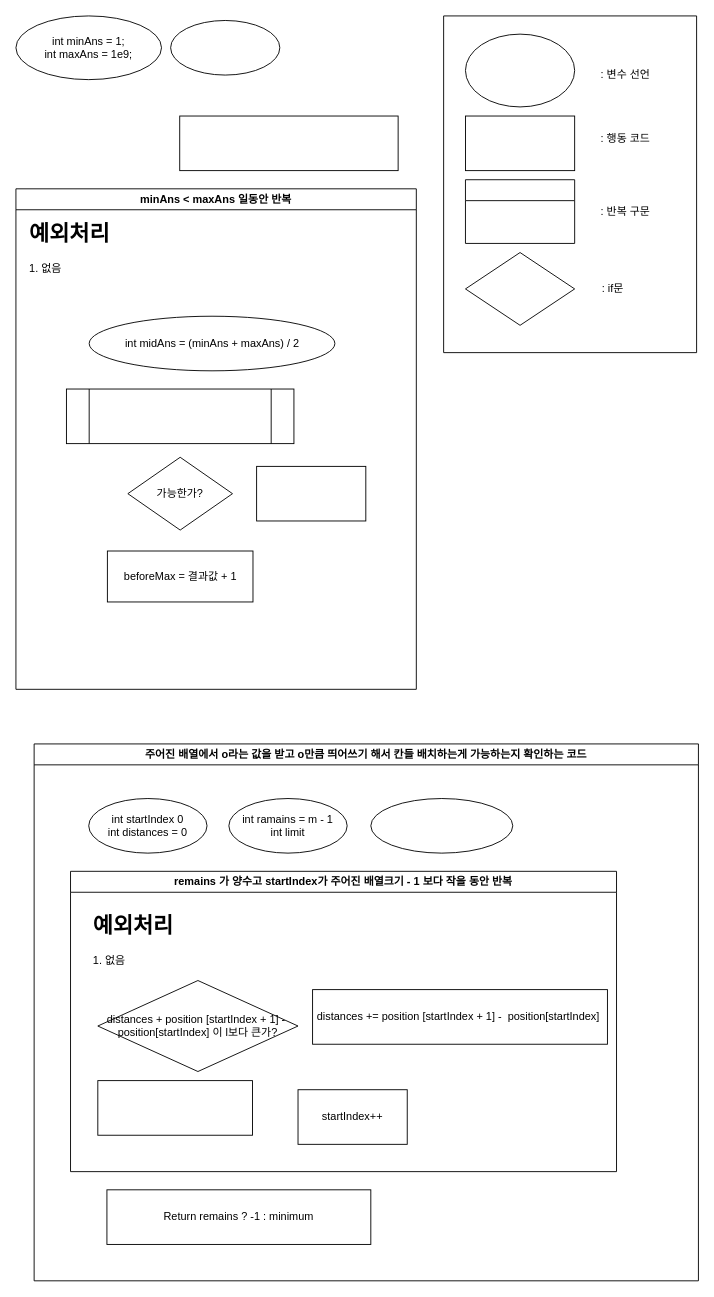
This 714x1297 diagram has some shape labels left out. Each missing label, with the box of its shape:
int beforeMax = -1: (170, 20, 280, 75)
int minnimun = 1e9: (370, 798, 513, 853)
maxAns = midAns: (256, 465, 366, 521)
remains-- distances = 0 minnimun = min(minnimun distances): (97, 1080, 253, 1135)
sort(position.begin(), position.end()): (179, 115, 398, 171)
~ 동안: (465, 179, 575, 243)
최소 배치간격 midAns로 가능한지 확인: (66, 388, 294, 444)
